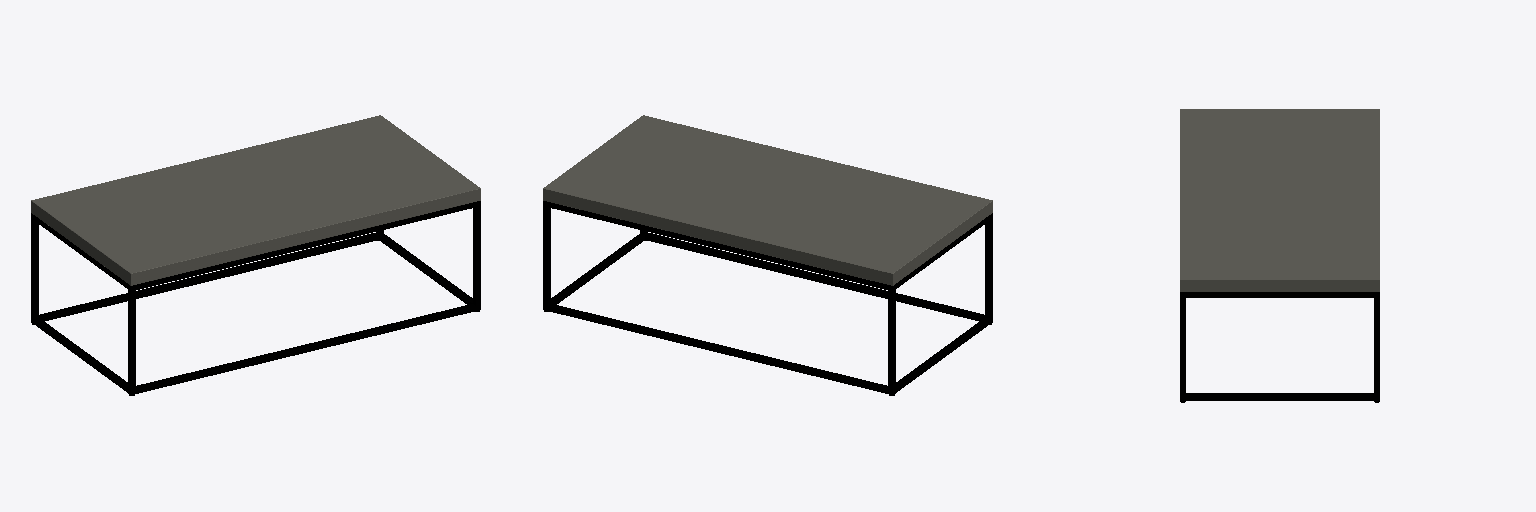
File: Censi_ConcreteCoffeeTable_free_obj.obj
The picture shows the model from 3 angles: view 1: azimuth 30°, elevation 25°; view 2: azimuth 150°, elevation 25°; view 3: azimuth 270°, elevation 25°; orthographic projection.
Visible parts, largest first — view 1: tabletop, metal_base; view 2: tabletop, metal_base; view 3: tabletop, metal_base.
Boxes of the visible parts, x1,y1,x2,y2 form: tabletop: [31, 115, 480, 285]; metal_base: [31, 201, 480, 394]; tabletop: [543, 115, 992, 285]; metal_base: [543, 201, 992, 394]; tabletop: [1180, 109, 1379, 291]; metal_base: [1180, 292, 1379, 400].
Size of the model in its own units: 119 by 40 by 59.